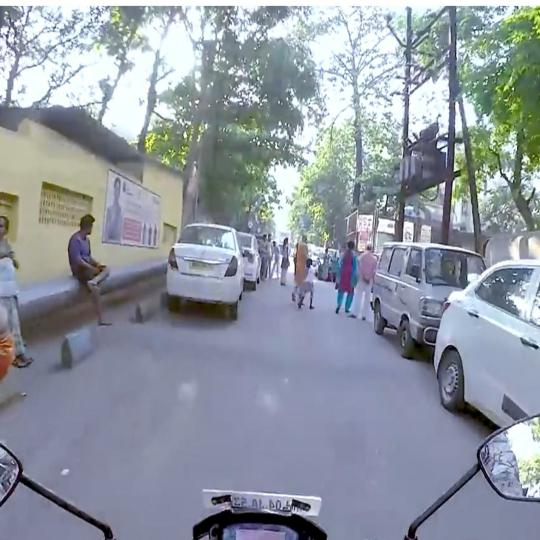Speed Bump: (96, 323, 371, 373)
